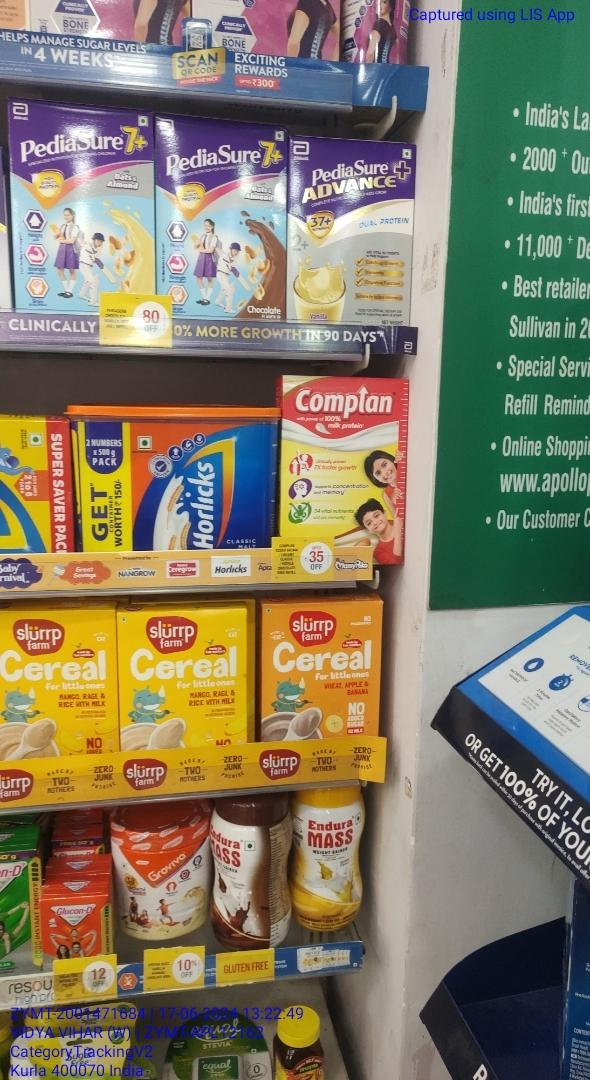COMPLAN_PISTA_BADAM_500_GMS_PACK: (281, 376, 404, 551)
HORLICK_MALT_1_KG_CONTAINER: (72, 404, 272, 550)
PEDIASURE_7_PLUS_CHOCOLATE_400_G_PACK: (158, 119, 285, 318)
